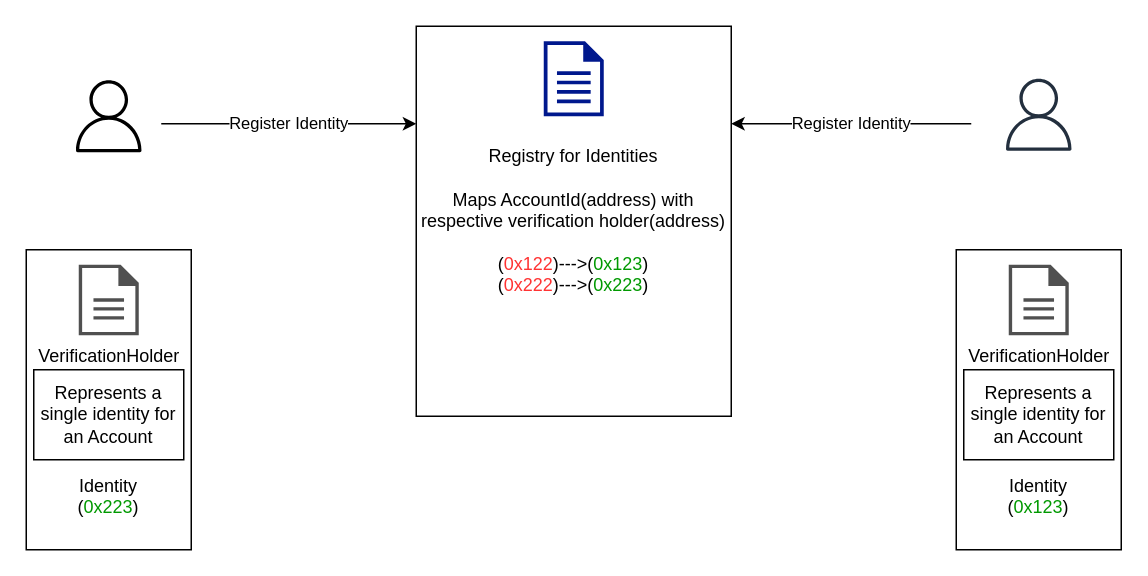
The diagram is 1148 pixels wide and 576 high, and some of its shapes have lost their labels. The shapes that lost their labels are listed below. From the top down, each one's centre as x and y in pixels, then its label:
At (x=573, y=78): "User Identity Registry".
At (x=108, y=115): "AccountID ( 0x222 )".
At (x=1038, y=114): "AccountID ( 0x122 )".
